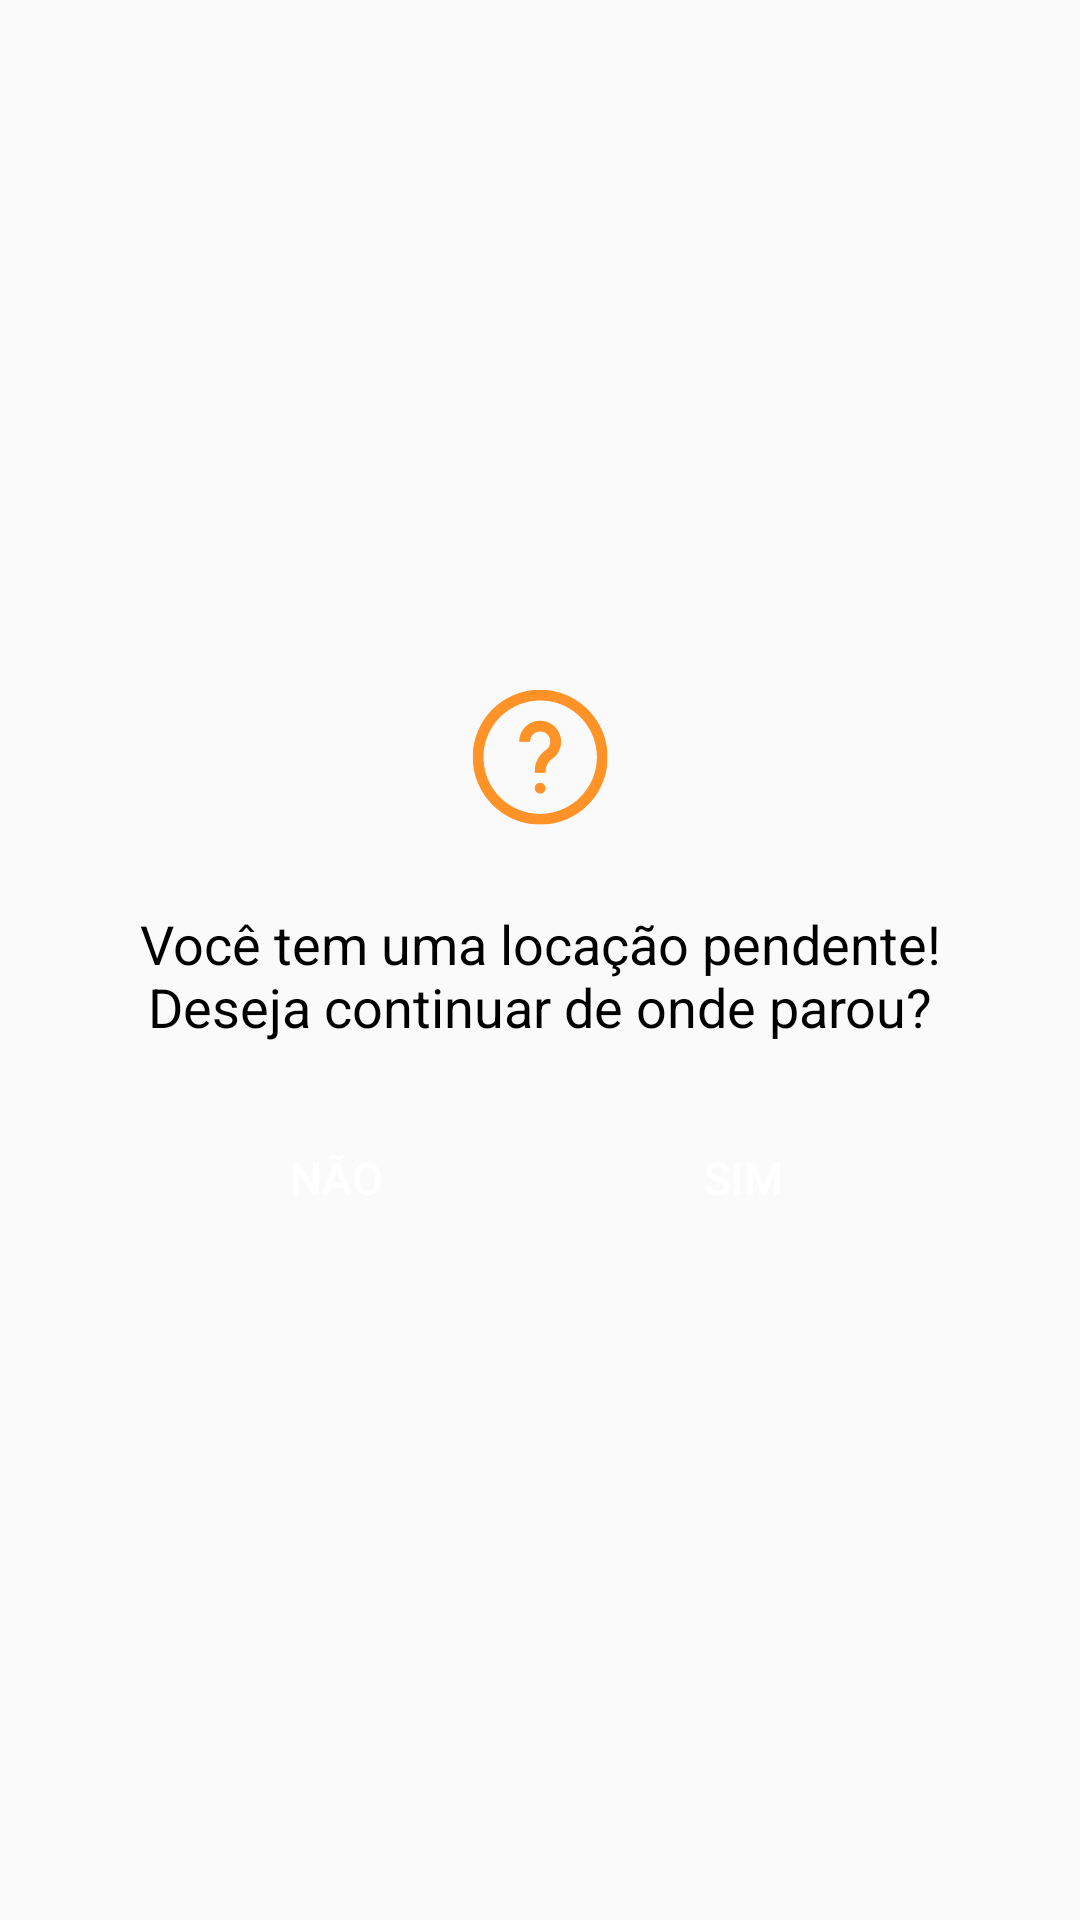

Locate icon controls on the screen. Image size 1080x1920, boxes as (x1, y1, x2, y2).
Tem certeza que deseja sair?: (473, 690, 608, 825)
